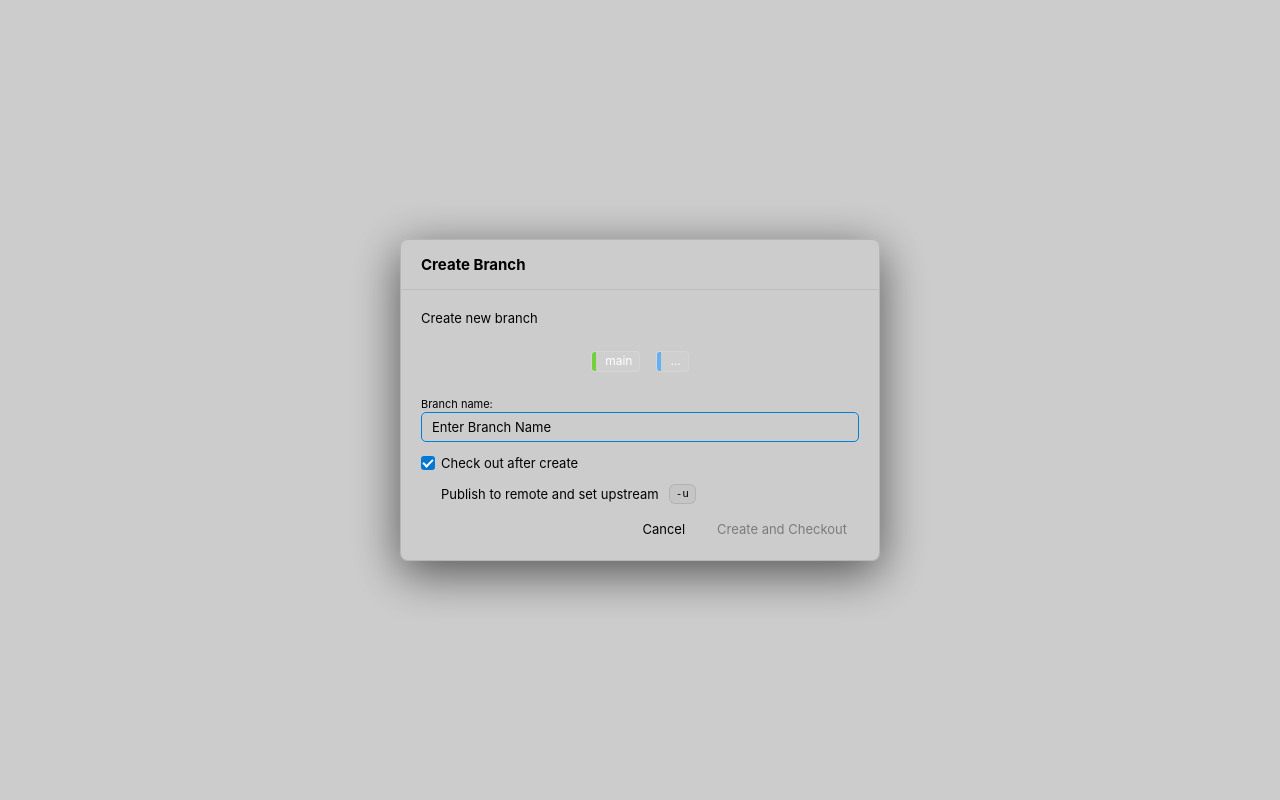
CreateBranchModal › shows a warning when name collides with an existing tag
The width and height of the screenshot is (1280, 800).
In the field with id "create-branch-name": (640, 427) [421, 412, 859, 442], type "v1.0"
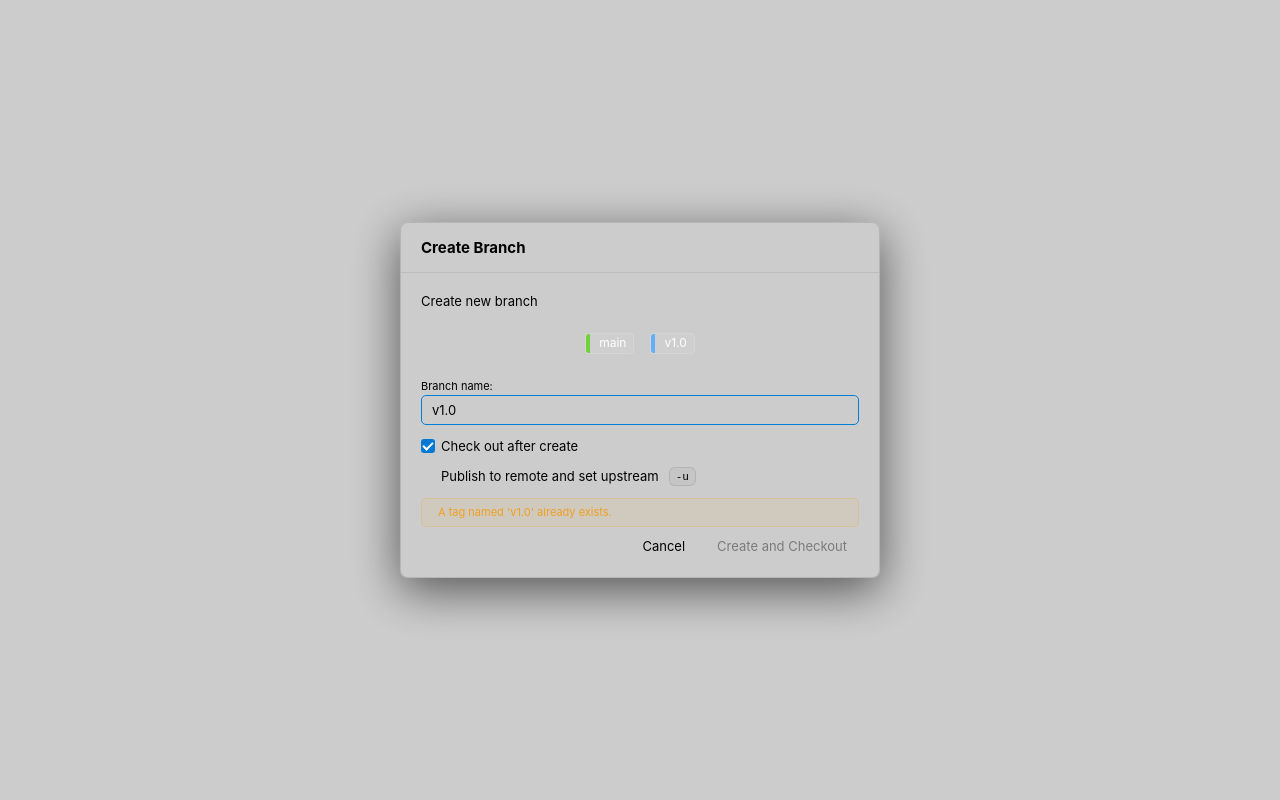
Check: the button "Create and Checkout" is disabled, box [705, 534, 859, 560]
Check: the message "A tag named 'v1.0' already exists." is shown, box [421, 498, 859, 528]
